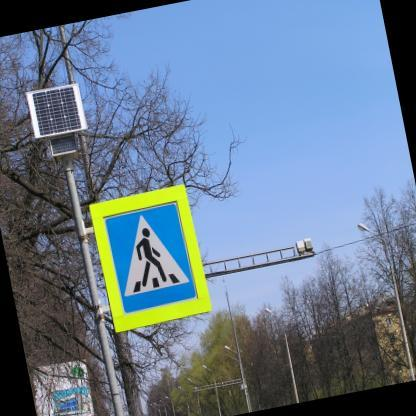road_sign: (89, 183, 212, 334)
